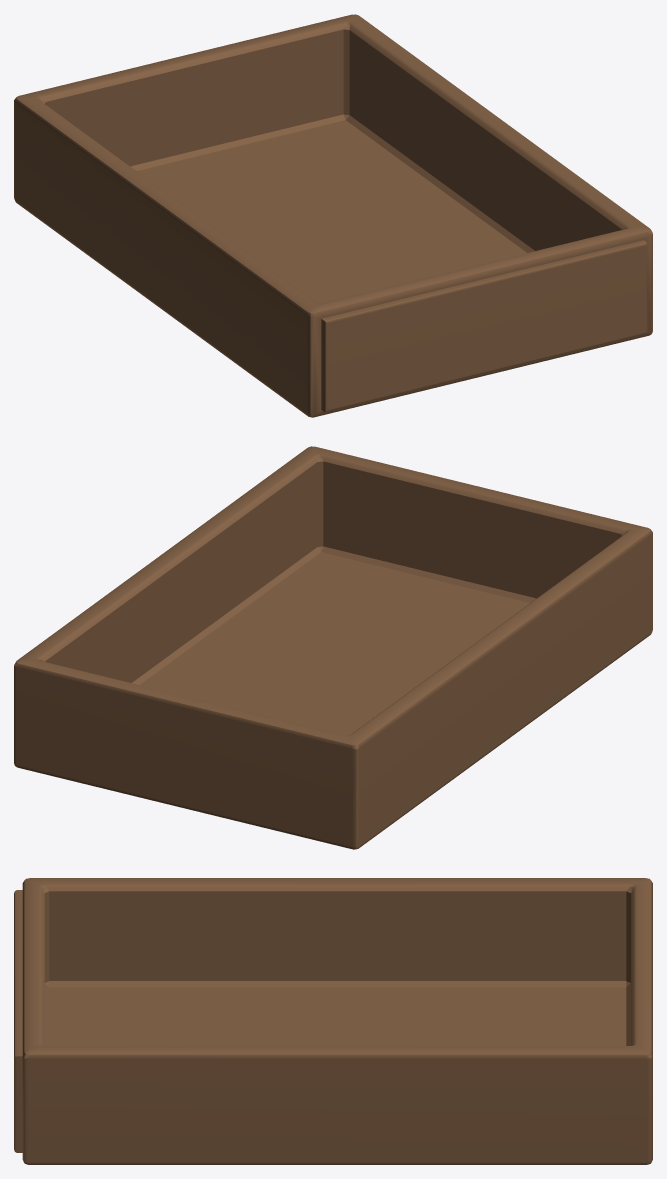
File: Drawer.fbx
3 views of the same model, one above another, from view 1: azimuth 30°, elevation 25°; view 2: azimuth 150°, elevation 25°; view 3: azimuth 270°, elevation 25° (orthographic). The views are drawn at different scales.
Visible parts, largest first — view 1: Drawer; view 2: Drawer; view 3: Drawer.
Part boxes in pixels (x1,y1,x2,y2): Drawer: [14, 14, 652, 417]; Drawer: [14, 446, 652, 849]; Drawer: [14, 878, 652, 1164].
Bounding box in the file's own units: 2.64 × 0.7826 × 4.01.
